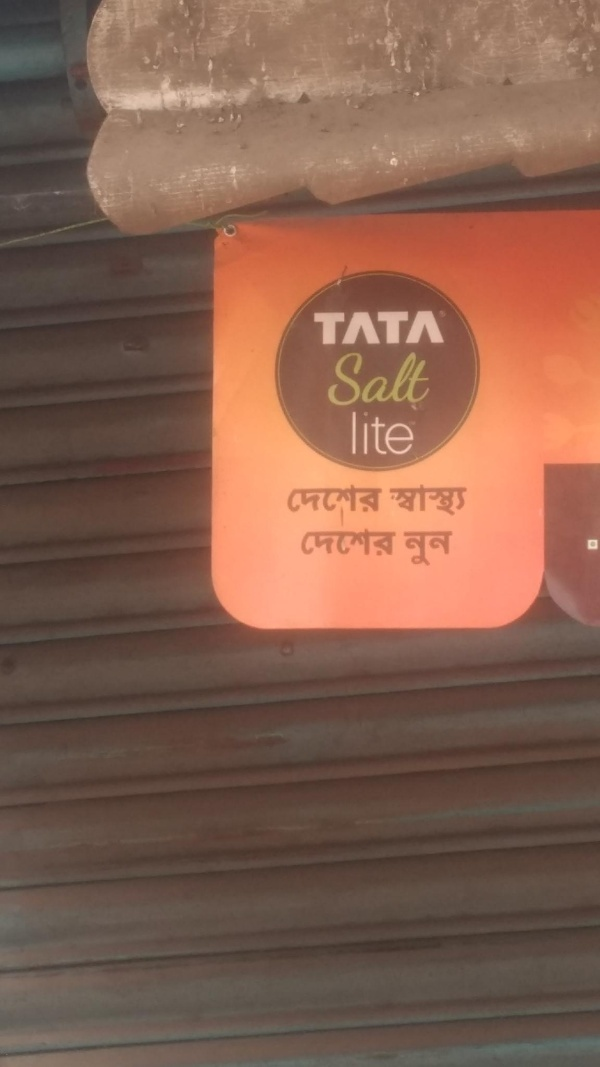text: (337, 345, 352, 412), (353, 345, 368, 412), (369, 345, 384, 412), (385, 345, 400, 412), (401, 345, 416, 412), (417, 345, 432, 412), (322, 345, 336, 412), (353, 403, 368, 462), (369, 403, 384, 462), (385, 403, 400, 462), (401, 403, 416, 462), (341, 403, 352, 462), (321, 308, 336, 349), (337, 308, 352, 349), (353, 308, 368, 349), (369, 308, 384, 349), (385, 308, 400, 349), (401, 308, 416, 349), (417, 308, 432, 349), (401, 483, 416, 524), (417, 483, 432, 524), (433, 483, 448, 524), (449, 483, 464, 524), (289, 483, 304, 523), (305, 483, 320, 523), (321, 483, 336, 523), (337, 483, 352, 523), (353, 483, 368, 523), (369, 483, 384, 523), (401, 528, 416, 568), (417, 528, 432, 568), (433, 528, 448, 568), (433, 308, 447, 349), (389, 483, 400, 524), (305, 527, 320, 557), (321, 527, 336, 557), (337, 527, 352, 557), (353, 527, 368, 557), (369, 527, 384, 557), (311, 308, 320, 349), (385, 527, 397, 557), (449, 528, 454, 568), (417, 403, 420, 462), (301, 527, 304, 557), (385, 483, 387, 523), (433, 345, 434, 412), (465, 483, 466, 524), (399, 528, 400, 568)
